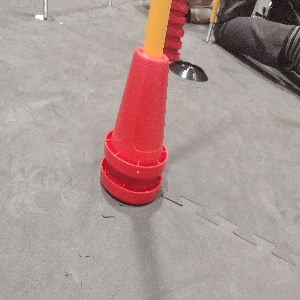Red_2: (99, 46, 169, 206)
